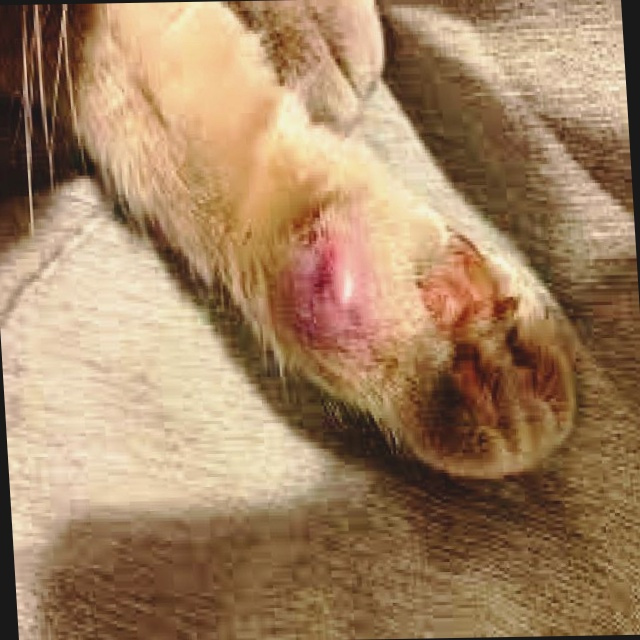lump_and_bump: (279, 214, 370, 350)
